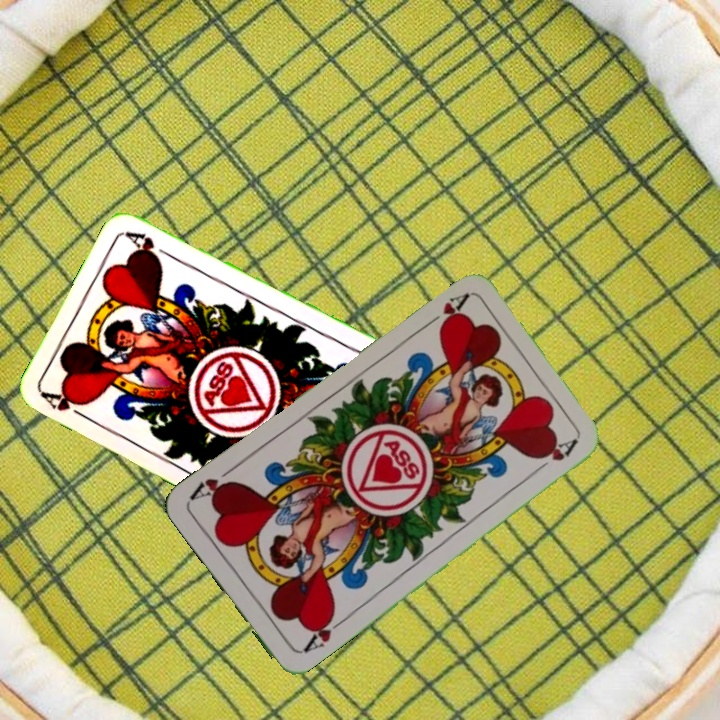HA: (298, 609, 348, 656), (419, 289, 471, 334), (39, 387, 94, 424)
